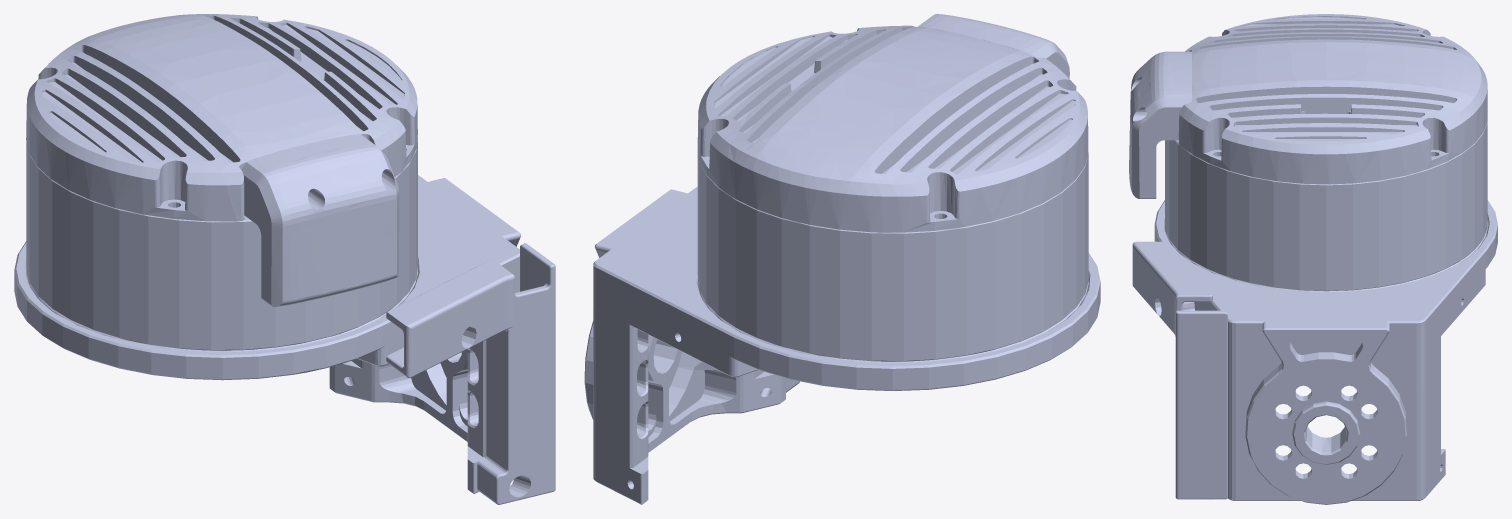
File: SF_TRON1_abad_L_Link_visuals_abad_L_Link_mesh.obj
3 renders of one model, left to right at view 1: azimuth 30°, elevation 25°; view 2: azimuth 150°, elevation 25°; view 3: azimuth 270°, elevation 25°, orthographic. The views are drawn at different scales.
Bounding box in the file's own units: 0.1319 × 0.1165 × 0.1139.
